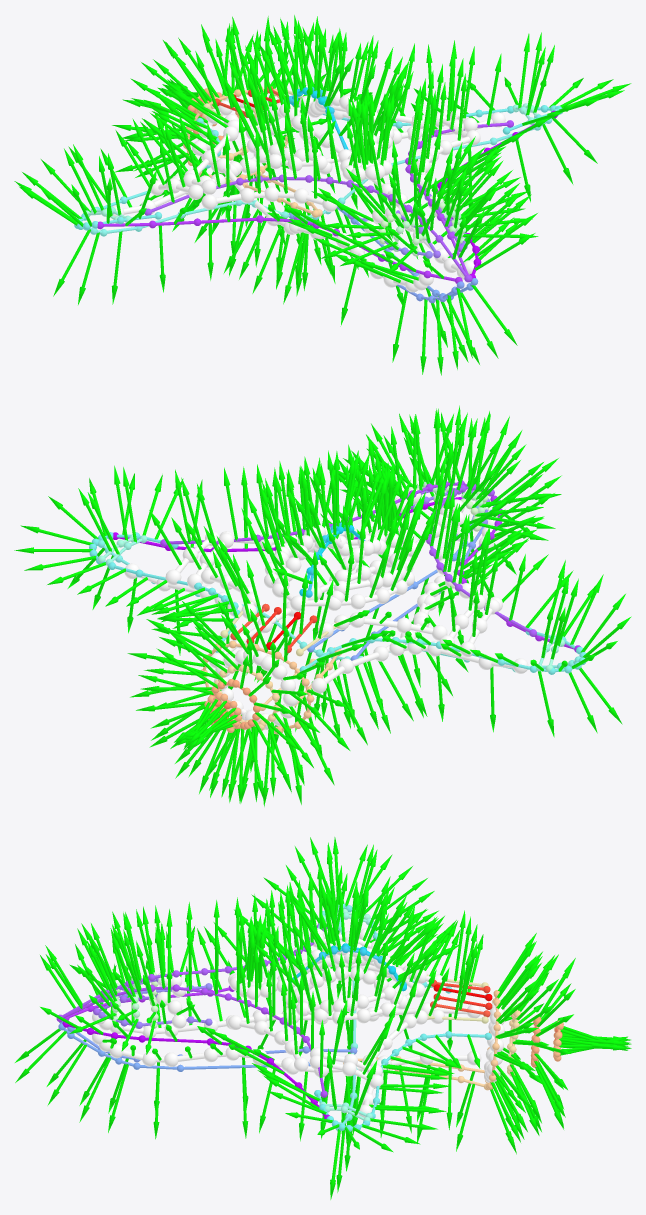
Rendered from author1_ship.gltf.
The picture shows the model from 3 angles, top to bottom: view 1: azimuth 30°, elevation 25°; view 2: azimuth 150°, elevation 25°; view 3: azimuth 270°, elevation 25°; orthographic projection. The views are drawn at different scales.
Bounding box in the file's own units: 0.8772 × 0.385 × 0.8377.
